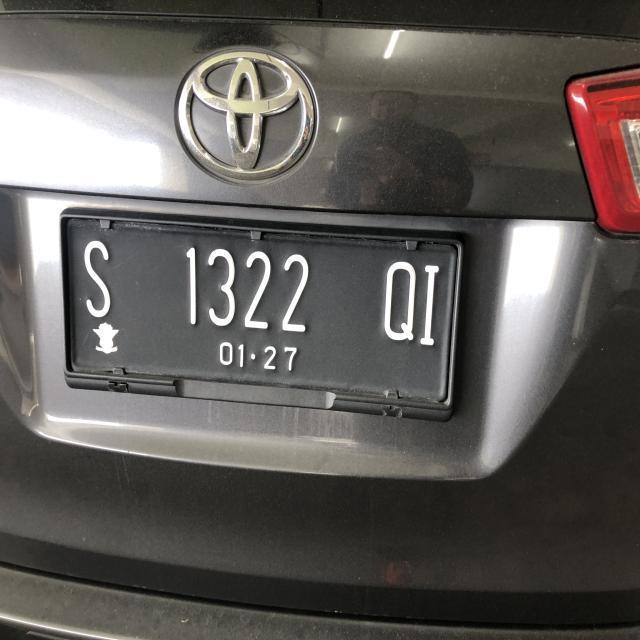1: (182, 238, 205, 328)
2: (284, 244, 313, 342), (244, 250, 276, 328)
3: (209, 241, 240, 326)
I: (422, 256, 440, 354)
Q: (382, 256, 420, 351)
S: (79, 238, 122, 324)
